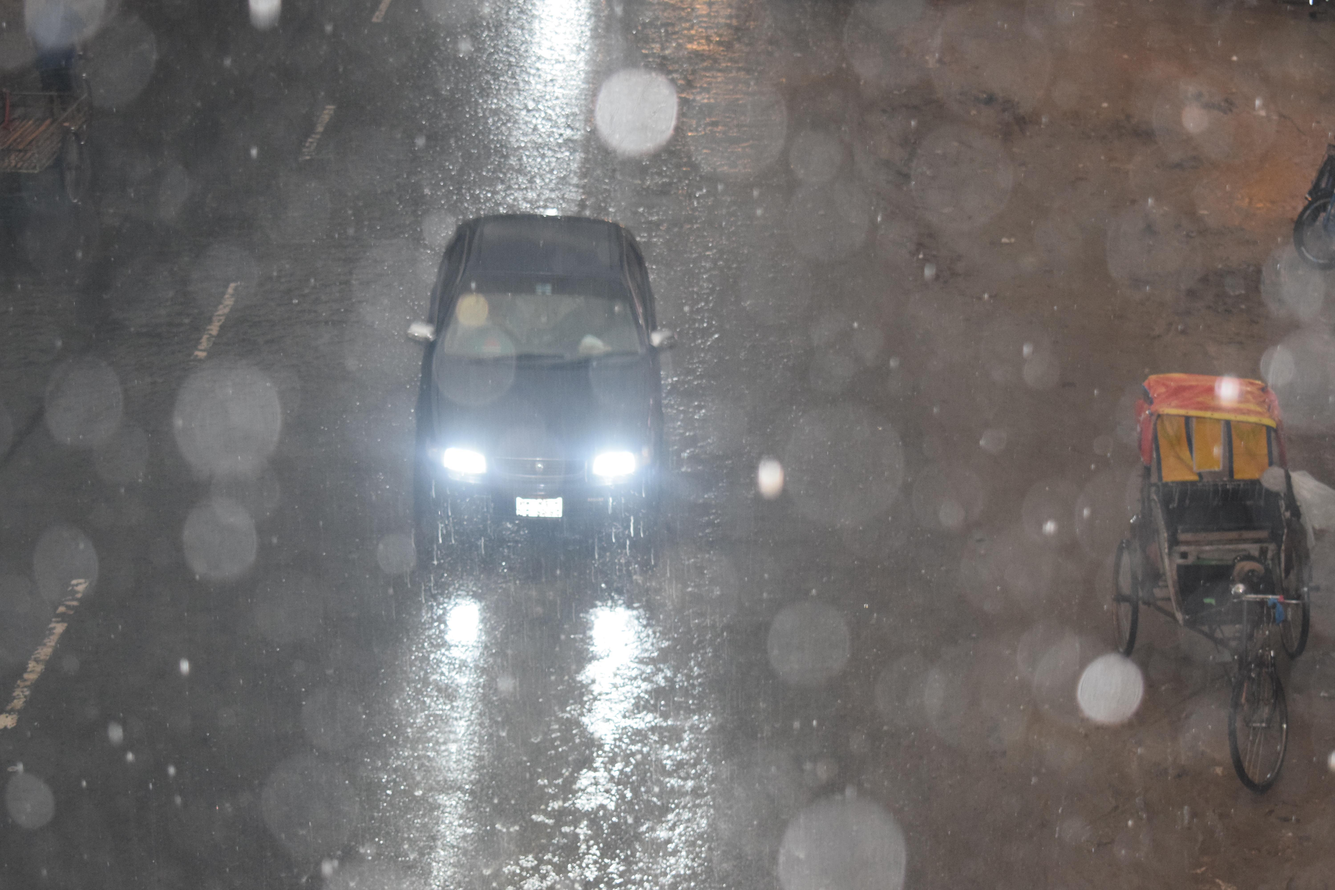Car: (360, 152, 701, 642), (1044, 327, 1335, 837)
